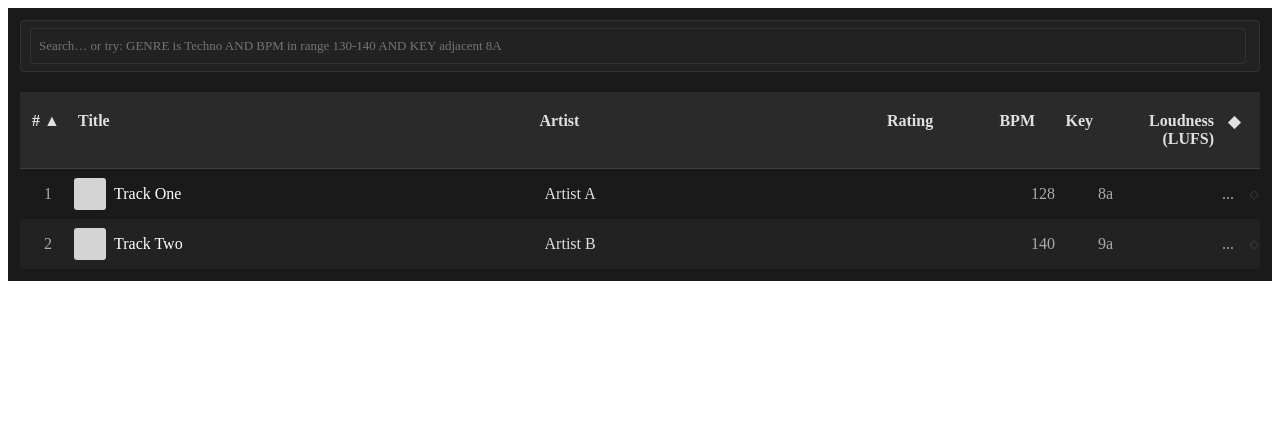
Scenario: context menu — submenu CSS classes › "Add to playlist" submenu HAS context-submenu--scrollable when playlists exist
The width and height of the screenshot is (1280, 427).
Right-click the text "Track One": (648, 194) [20,169,1276,219]
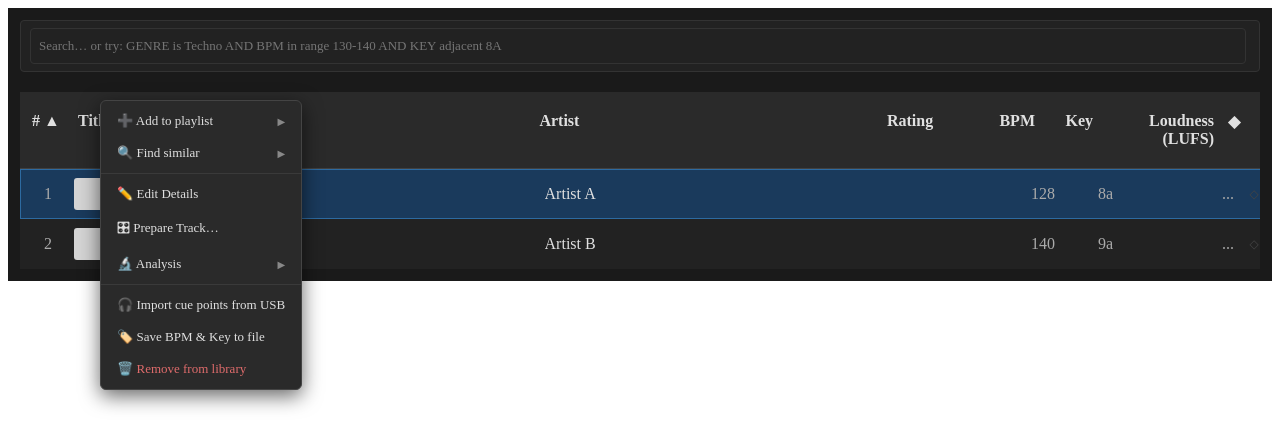
Now the element with class "context-menu" is shown, box [100,100,302,390]
Now the element with class "context-menu-item--has-submenu" showing "➕ Add to playlist" is shown, box [117,113,213,128]
